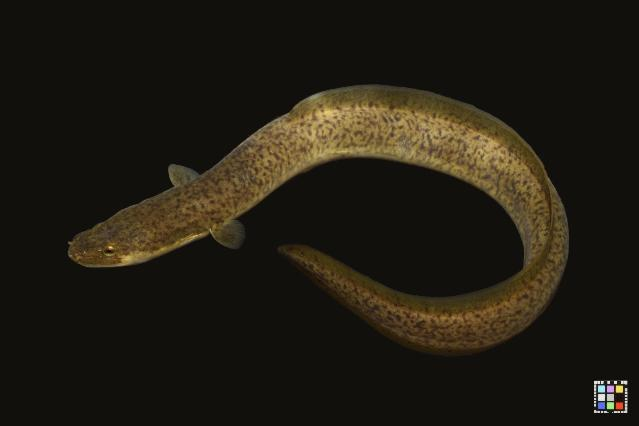Sirip Ekor: (263, 228, 379, 322)
